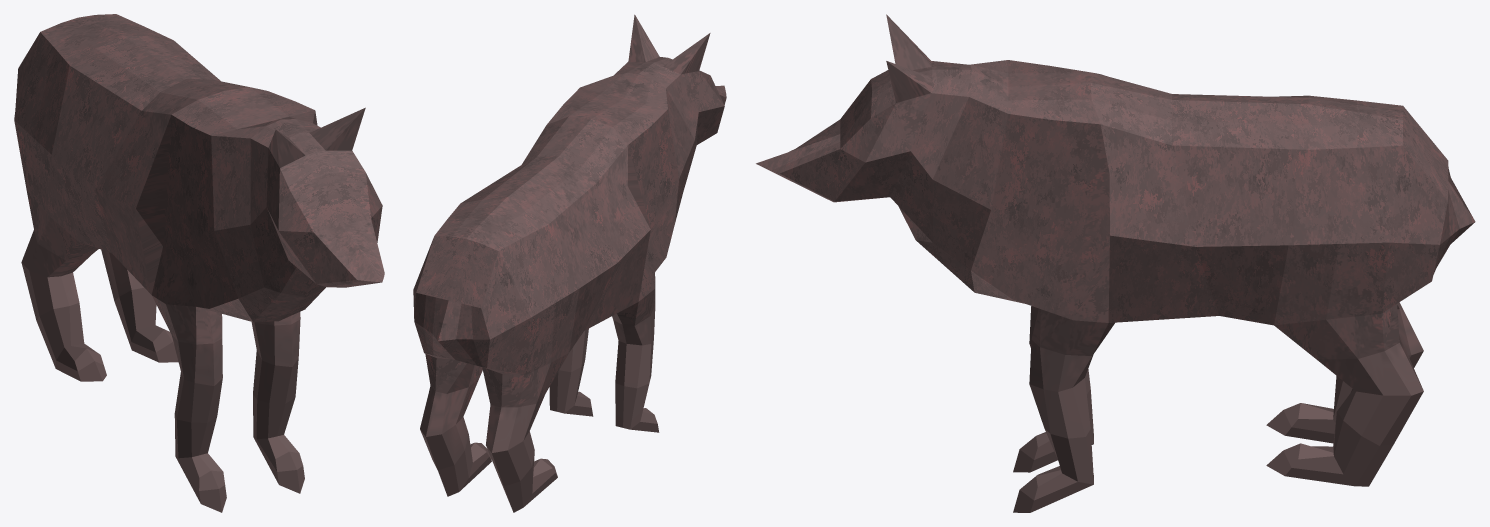
File: piesblendtex_000035.obj
3 renders of one model, left to right at view 1: azimuth 30°, elevation 25°; view 2: azimuth 150°, elevation 25°; view 3: azimuth 270°, elevation 25°, orthographic. The views are drawn at different scales.
Parts seen in each view (by area): view 1: Cube; view 2: Cube; view 3: Cube.
Part boxes in pixels (x1=…): Cube: x1=14, y1=14, x2=384, y2=512; Cube: x1=413, y1=14, x2=726, y2=512; Cube: x1=756, y1=14, x2=1475, y2=512.
Bounding box in the file's own units: 2.56 × 6.58 × 9.43.
